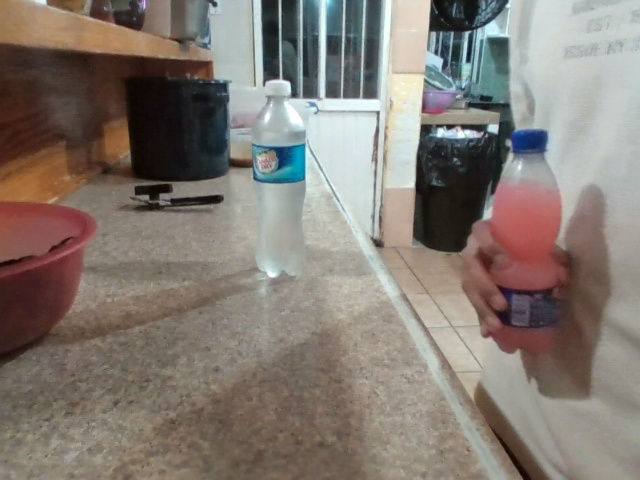botella: (205, 37, 337, 291), (505, 101, 575, 364)
